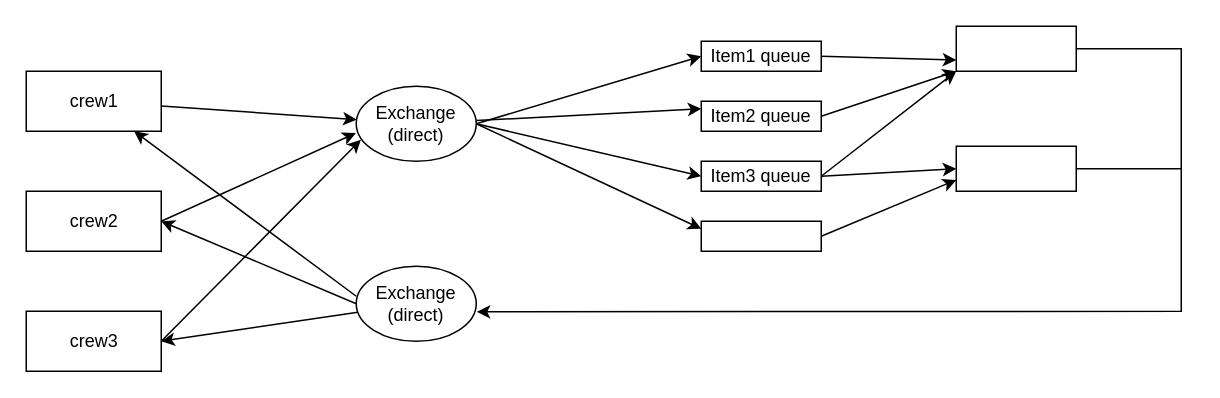
Image size: 1220x398. Some labels were removed from this diagram. Each missing label, with the centre of its shape:
"Item4 queue" belongs at (x=760, y=235).
"supplier1" belongs at (x=1015, y=48).
"supplier2" belongs at (x=1015, y=168).
